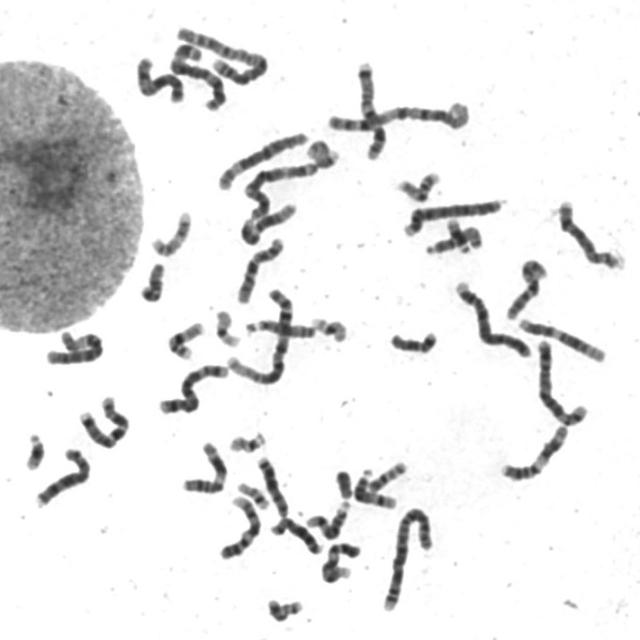A1: (221, 282, 295, 386), (320, 94, 472, 134)
A2: (375, 501, 436, 614), (170, 18, 270, 86)
A3: (238, 154, 320, 222), (164, 36, 229, 112)
B4: (449, 274, 533, 360), (397, 192, 506, 238)
B5: (530, 333, 591, 428), (153, 357, 230, 416)
C10: (231, 230, 287, 304), (500, 252, 550, 321)
C11: (494, 419, 571, 483), (176, 435, 230, 495)
C12: (513, 312, 609, 364), (234, 196, 299, 246)
C6: (212, 124, 310, 192), (40, 325, 106, 367)
C7: (350, 52, 389, 162), (73, 389, 132, 450)
C8: (552, 193, 627, 272), (28, 442, 93, 509)
C9: (213, 488, 263, 561), (315, 536, 363, 584)
D13: (251, 450, 292, 519), (266, 512, 323, 556)
D14: (349, 463, 400, 511), (302, 496, 351, 541)
D15: (420, 221, 486, 256), (241, 312, 320, 340)
E16: (161, 315, 207, 361), (396, 170, 440, 207)
E17: (145, 204, 194, 258), (304, 134, 340, 170)
E18: (133, 260, 173, 307), (384, 324, 439, 355)
F19: (210, 303, 243, 349), (308, 315, 352, 348)
F20: (362, 454, 409, 494), (260, 592, 305, 623)
G21: (442, 212, 476, 266), (17, 426, 48, 471)
G22: (230, 475, 271, 510), (223, 425, 268, 454)
X: (130, 50, 186, 104)
Y: (330, 464, 354, 500)
